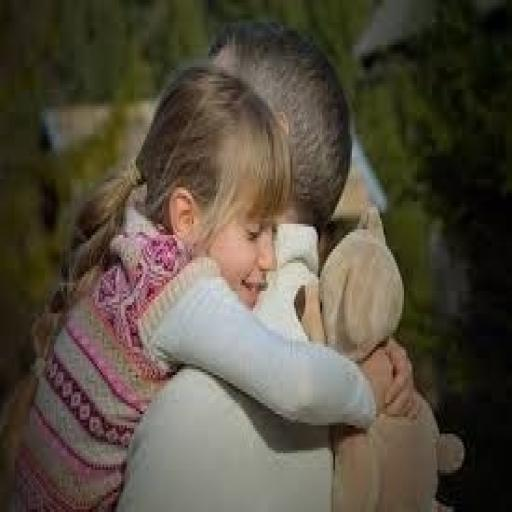hugging: (6, 17, 452, 509)
